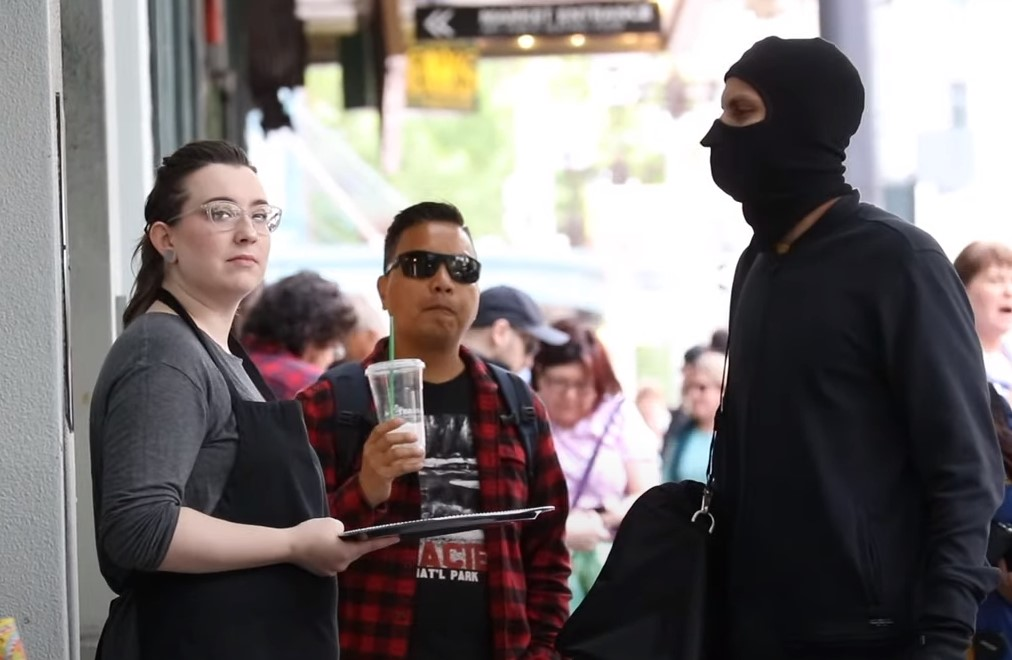face_no_mask: (153, 147, 276, 304), (381, 199, 486, 354), (953, 243, 1011, 340), (679, 354, 725, 420)
